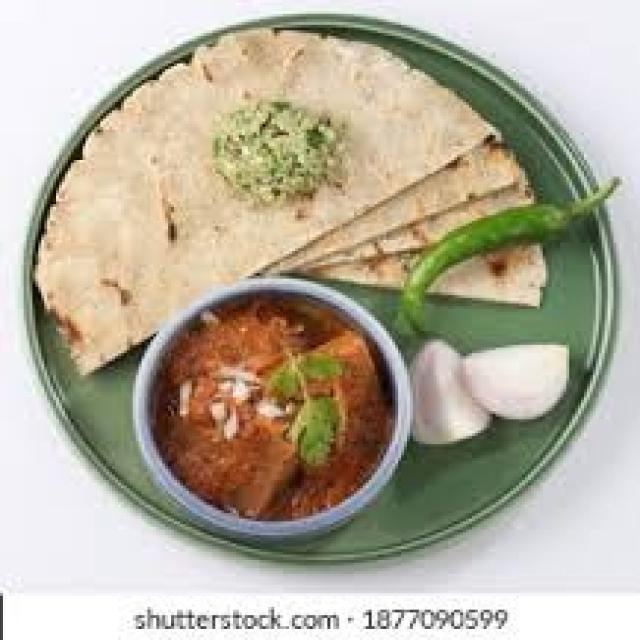DOSA: (29, 28, 513, 370)
